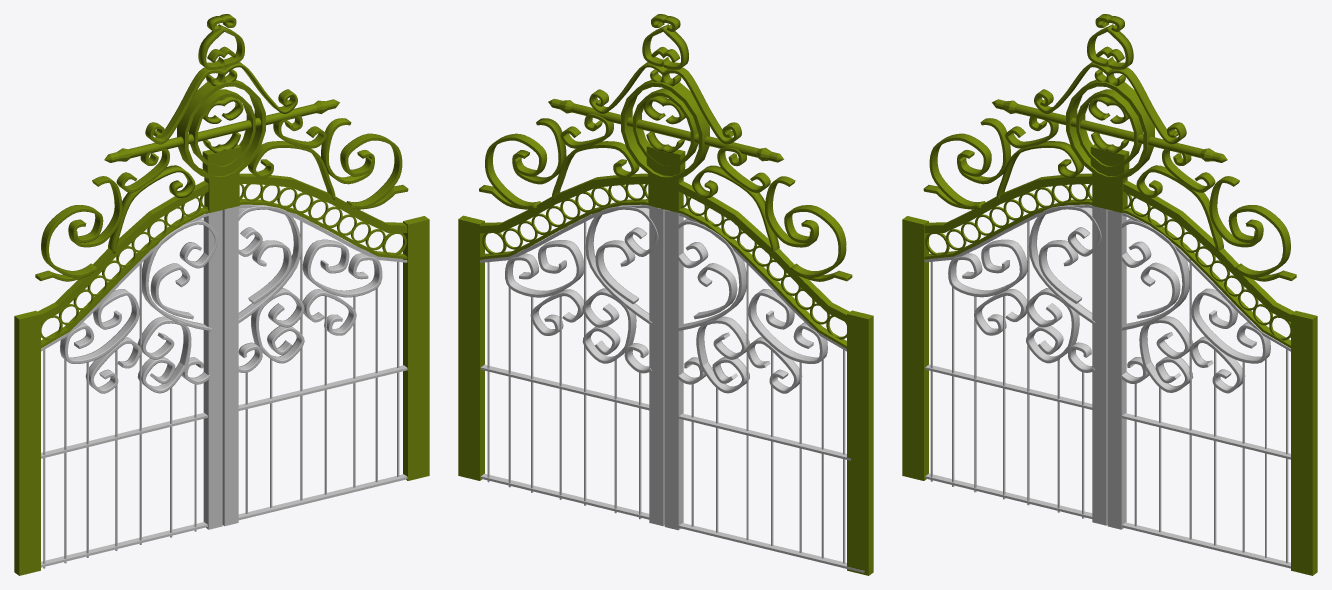
The model's file is cemetary_gate.obj.
The picture shows the model from 3 angles, left to right: view 1: azimuth 30°, elevation 25°; view 2: azimuth 150°, elevation 25°; view 3: azimuth 330°, elevation 25°; orthographic projection.
Visible parts, largest first — view 1: Box001; view 2: Box001; view 3: Box001.
Part boxes in pixels (bbox=[...]): Box001: bbox=[14, 14, 429, 575]; Box001: bbox=[458, 14, 873, 575]; Box001: bbox=[902, 14, 1317, 575].
Size of the model in its own units: 391 by 462 by 13.35.
